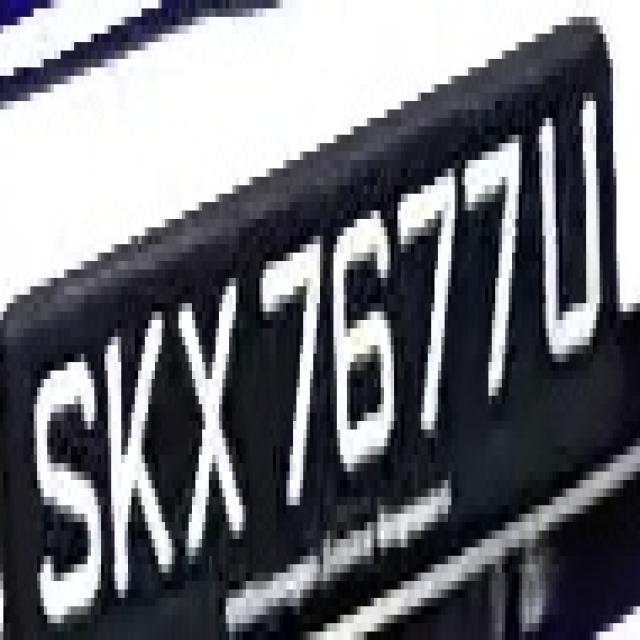6: (320, 185, 401, 497)
7: (246, 210, 333, 539), (455, 118, 525, 455), (391, 151, 465, 438)
K: (91, 253, 172, 606)
S: (30, 303, 104, 623)
U: (529, 67, 603, 370)
X: (168, 252, 256, 590)
